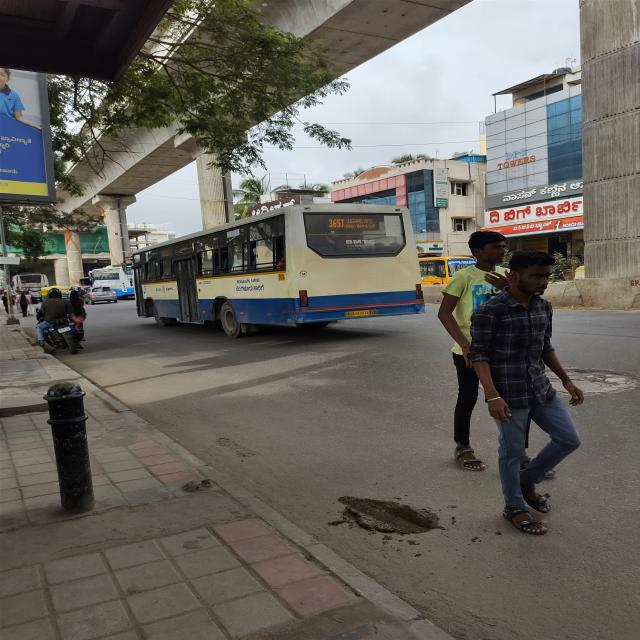bus: (115, 197, 426, 342)
display: (328, 216, 383, 231)
dnumber: (328, 218, 344, 228)
